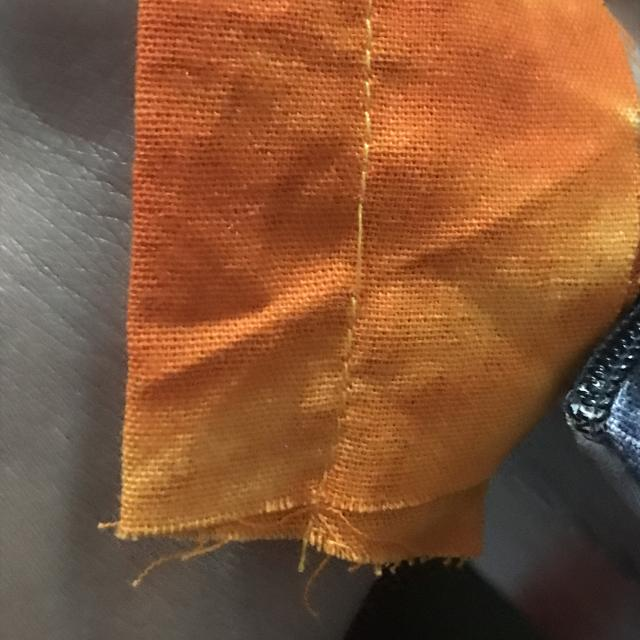skip: (323, 178, 390, 316)
